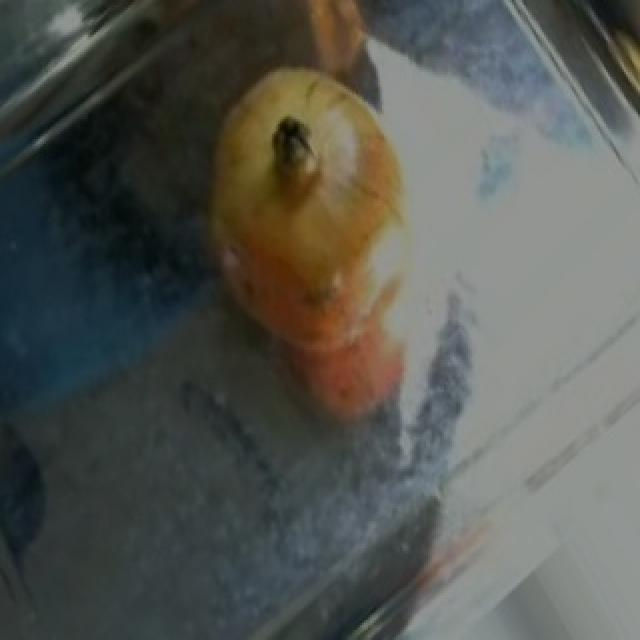fruit: (186, 37, 432, 226)
